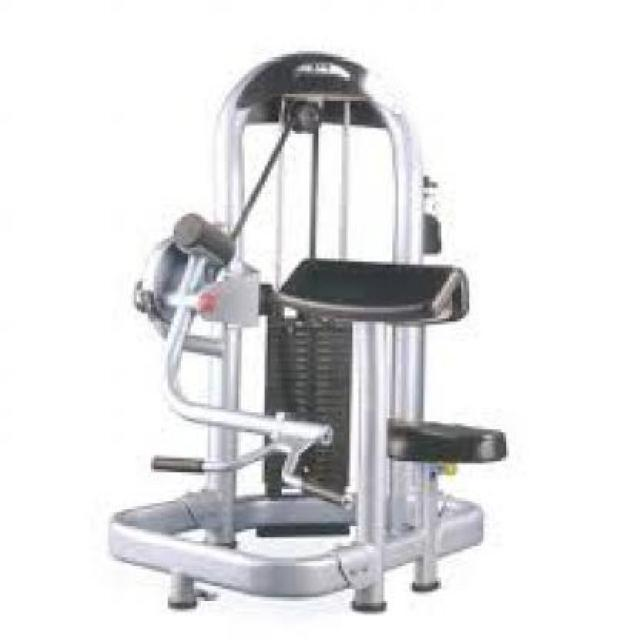arm curl machine: (114, 51, 508, 614)
